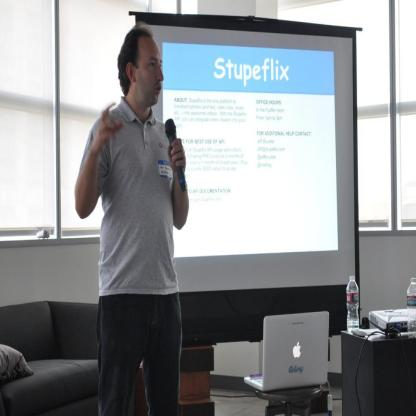board: (245, 310, 330, 392), (347, 275, 361, 332), (406, 278, 416, 339)
